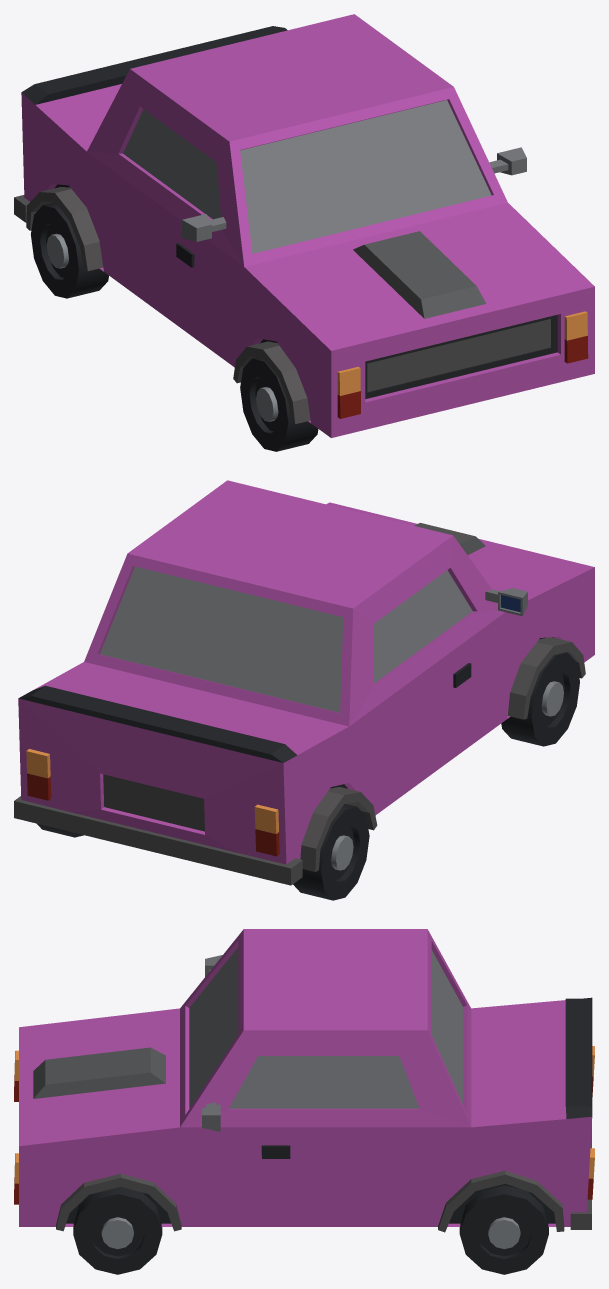
The model's file is Car_12.fbx.
The picture shows the model from 3 angles, top to bottom: view 1: azimuth 30°, elevation 25°; view 2: azimuth 150°, elevation 25°; view 3: azimuth 270°, elevation 25°; orthographic projection. The views are drawn at different scales.
Parts seen in each view (by area): view 1: Car_12; view 2: Car_12; view 3: Car_12.
Boxes of the visible parts, bbox=[...] form: Car_12: bbox=[14, 14, 594, 451]; Car_12: bbox=[14, 480, 594, 900]; Car_12: bbox=[14, 929, 594, 1274].
Size of the model in its own units: 188 by 133 by 303.
